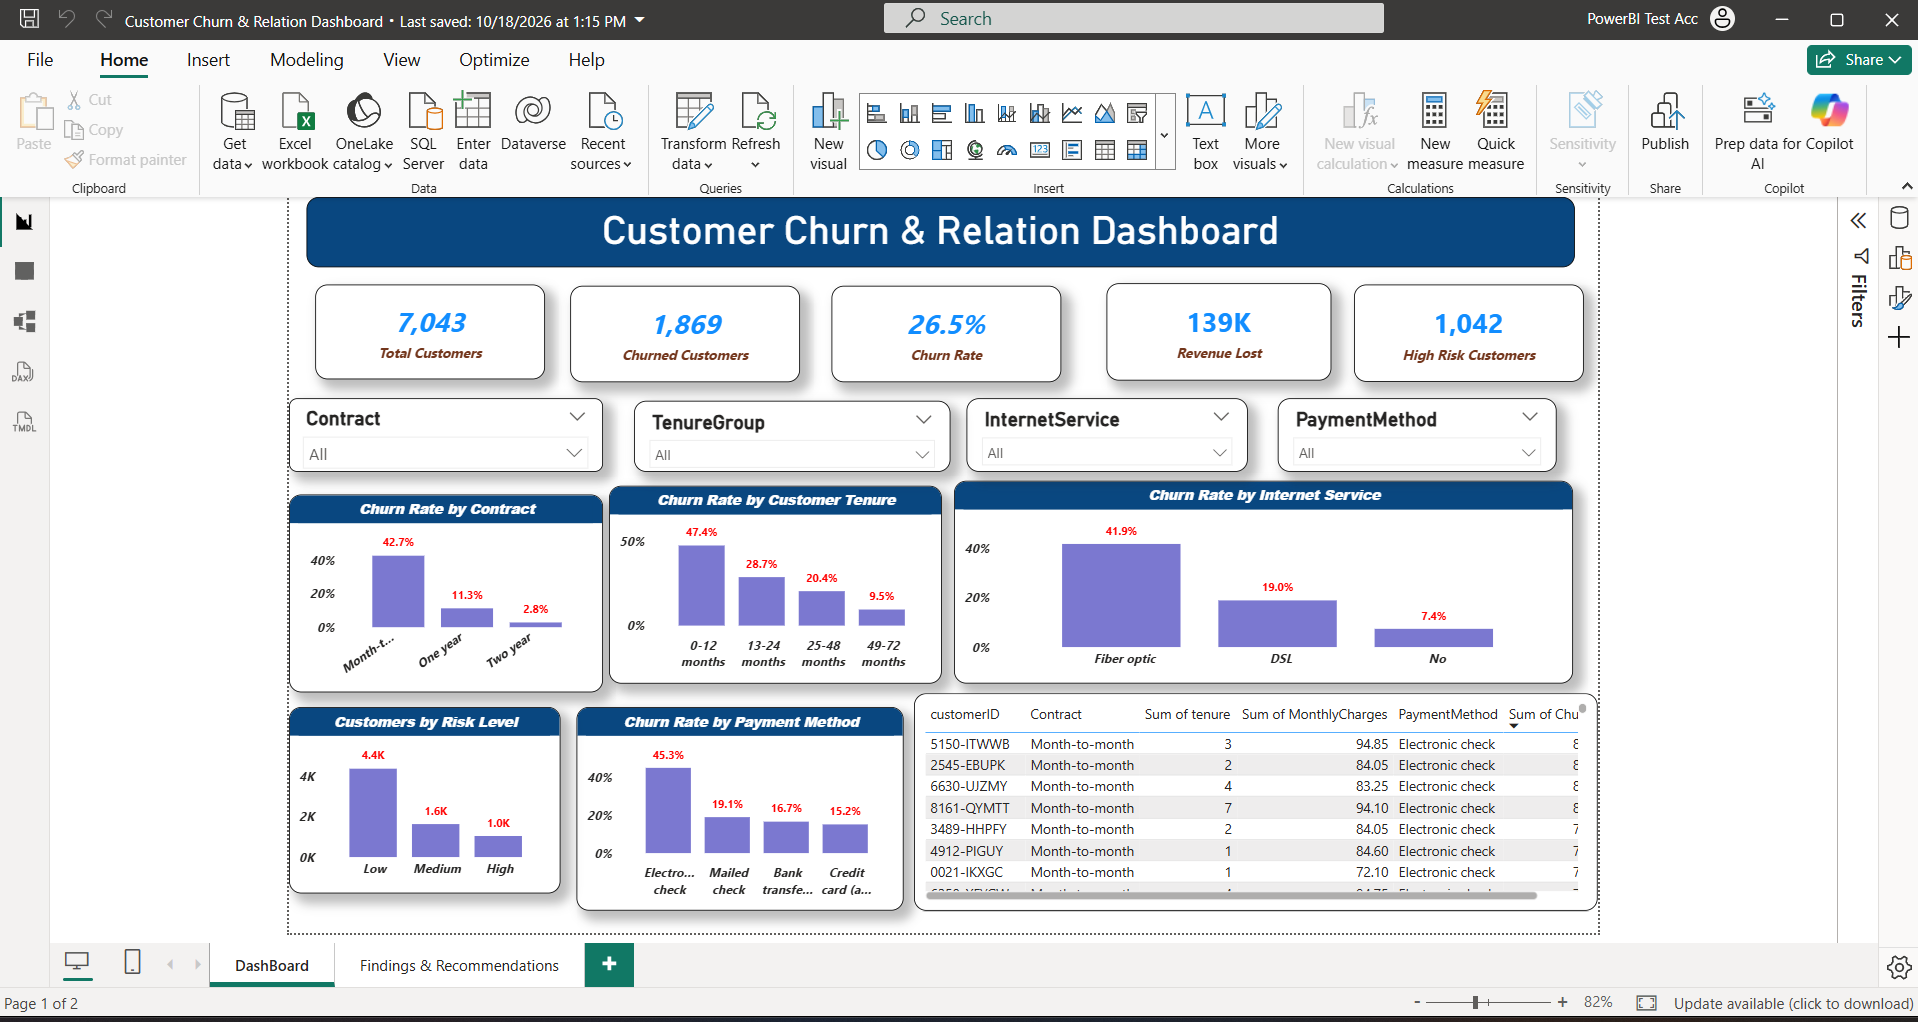

Layout of this report page (visuals, bound fields, positions):
{"tool":"powerbi","page":{"name":"DashBoard","canvas":[1280,720],"ordinal":0},"visuals":[{"type":"card","fields":{"Values":["Telco_Churn_Scored.Total Customers"]},"box":[25.7,85.6,225,92.9],"z":0},{"type":"card","fields":{"Values":["Telco_Churn_Scored.Churned Customers"]},"box":[275.1,86.8,225,94.2],"z":1000},{"type":"card","fields":{"Values":["Telco_Churn_Scored.Churn Rate"]},"box":[530.7,86.8,225,94.2],"z":2000},{"type":"card","fields":{"Values":["Telco_Churn_Scored.Revenue Lost"]},"box":[799.7,84.4,220.1,95.4],"z":3000},{"type":"card","fields":{"Values":["Telco_Churn_Scored.High Risk Customers"]},"box":[1041.9,85.6,225,95.4],"z":4000},{"type":"clusteredColumnChart","fields":{"Category":["Telco_Churn_Scored.Contract"],"Y":["Telco_Churn_Scored.Churn Rate"]},"box":[0,291,306.9,193.2],"z":5000},{"type":"clusteredColumnChart","title":"Churn Rate by Customer Tenure","fields":{"Category":["Telco_Churn_Scored.TenureGroup"],"Y":["Telco_Churn_Scored.Churn Rate"]},"box":[313,282.5,325.3,193.2],"z":6000},{"type":"clusteredColumnChart","title":"Churn Rate by Internet Service","fields":{"Category":["Telco_Churn_Scored.InternetService"],"Y":["Telco_Churn_Scored.Churn Rate"]},"box":[650.5,277.6,605.3,198.1],"z":7000},{"type":"clusteredColumnChart","title":"Churn Rate by Payment Method","fields":{"Category":["Telco_Churn_Scored.PaymentMethod"],"Y":["Telco_Churn_Scored.Churn Rate"]},"box":[281.3,498.9,320.4,199.3],"z":8000},{"type":"clusteredColumnChart","title":"Customers by Risk Level  ","fields":{"Category":["Telco_Churn_Scored.RiskLevel"],"Y":["Telco_Churn_Scored.Total Customers"]},"box":[0,498.9,265.4,182.2],"z":9000},{"type":"tableEx","fields":{"Values":["Telco_Churn_Scored.customerID","Telco_Churn_Scored.Contract","Sum(Telco_Churn_Scored.tenure)","Sum(Telco_Churn_Scored.MonthlyCharges)","Telco_Churn_Scored.PaymentMethod","Sum(Telco_Churn_Scored.ChurnRisk)"]},"box":[611.4,485.5,668.9,212.8],"z":10000},{"type":"slicer","fields":{"Values":["Telco_Churn_Scored.Contract"]},"box":[0,196.9,306.9,72.1],"z":11000},{"type":"slicer","fields":{"Values":["Telco_Churn_Scored.InternetService"]},"box":[662.8,196.9,275.1,72.1],"z":12000},{"type":"slicer","fields":{"Values":["Telco_Churn_Scored.TenureGroup"]},"box":[337.5,199.3,309.4,69.7],"z":13000},{"type":"slicer","fields":{"Values":["Telco_Churn_Scored.PaymentMethod"]},"box":[967.3,196.9,272.7,72.1],"z":14000},{"type":"textbox","box":[17.1,0,1241.2,68.5],"z":15000}]}

Visuals, with their boxes on the page's 1280x720 design canvas (x1, y1, x2, y2). These are canvas units, not pixel positions in the 1918x1022 screenshot, which may show the page scaled, cropped or inside an application window:
card - Telco_Churn_Scored.Total Customers: bbox=(26, 86, 251, 178)
card - Telco_Churn_Scored.Churned Customers: bbox=(275, 87, 500, 181)
card - Telco_Churn_Scored.Churn Rate: bbox=(531, 87, 756, 181)
card - Telco_Churn_Scored.Revenue Lost: bbox=(800, 84, 1020, 180)
card - Telco_Churn_Scored.High Risk Customers: bbox=(1042, 86, 1267, 181)
clusteredColumnChart - Telco_Churn_Scored.Contract x Telco_Churn_Scored.Churn Rate: bbox=(0, 291, 307, 484)
"Churn Rate by Customer Tenure" clusteredColumnChart: bbox=(313, 282, 638, 476)
"Churn Rate by Internet Service" clusteredColumnChart: bbox=(650, 278, 1256, 476)
"Churn Rate by Payment Method" clusteredColumnChart: bbox=(281, 499, 602, 698)
"Customers by Risk Level  " clusteredColumnChart: bbox=(0, 499, 265, 681)
tableEx - Telco_Churn_Scored.customerID x Telco_Churn_Scored.Contract: bbox=(611, 486, 1280, 698)
slicer - Telco_Churn_Scored.Contract: bbox=(0, 197, 307, 269)
slicer - Telco_Churn_Scored.InternetService: bbox=(663, 197, 938, 269)
slicer - Telco_Churn_Scored.TenureGroup: bbox=(338, 199, 647, 269)
slicer - Telco_Churn_Scored.PaymentMethod: bbox=(967, 197, 1240, 269)
textbox: bbox=(17, 0, 1258, 68)
